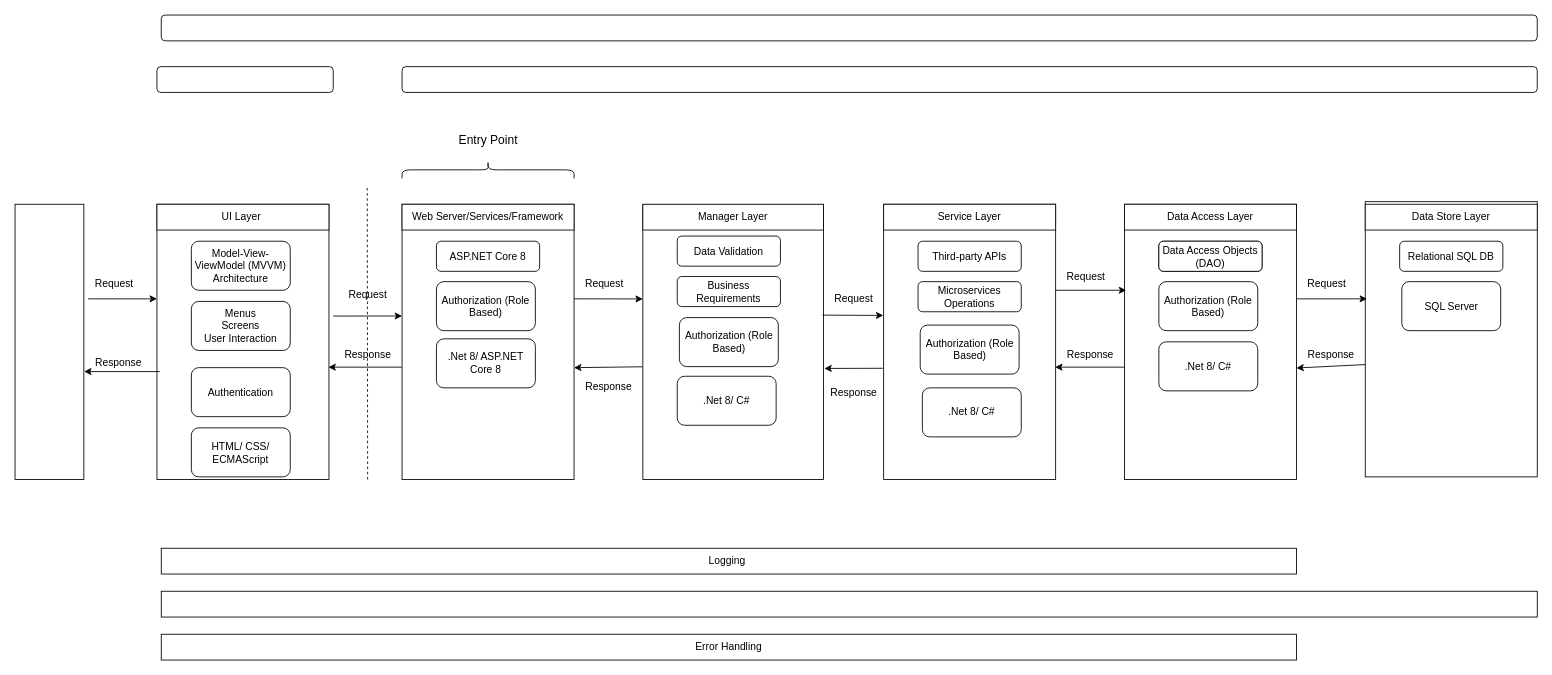
Image size: 1552x675. Some labels were removed from this diagram. The shapes that lost their labels are listed below. From the top down, each one's centre as x and y in pixels, then its label:
(848,27): LAYERED ARCHECTURE
(244,79): FRONT END
(969,79): BACK END
(49,341): User
(848,603): Security
